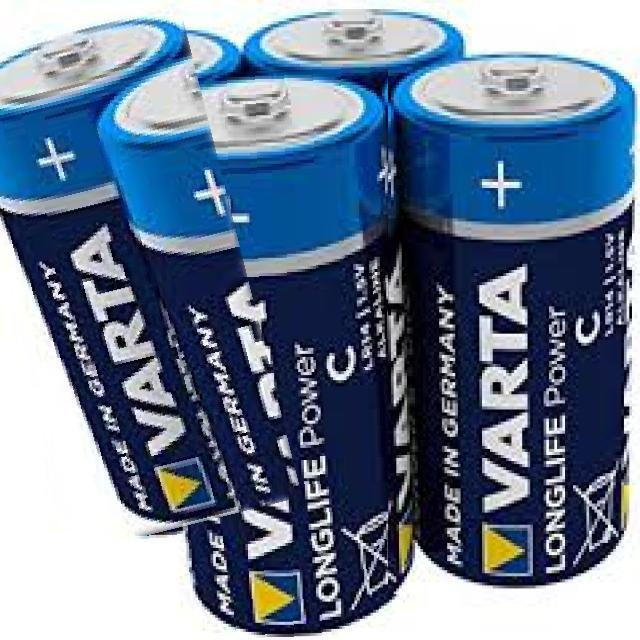Battery: (394, 41, 640, 601), (182, 74, 422, 639), (1, 3, 242, 528), (239, 7, 481, 95)
